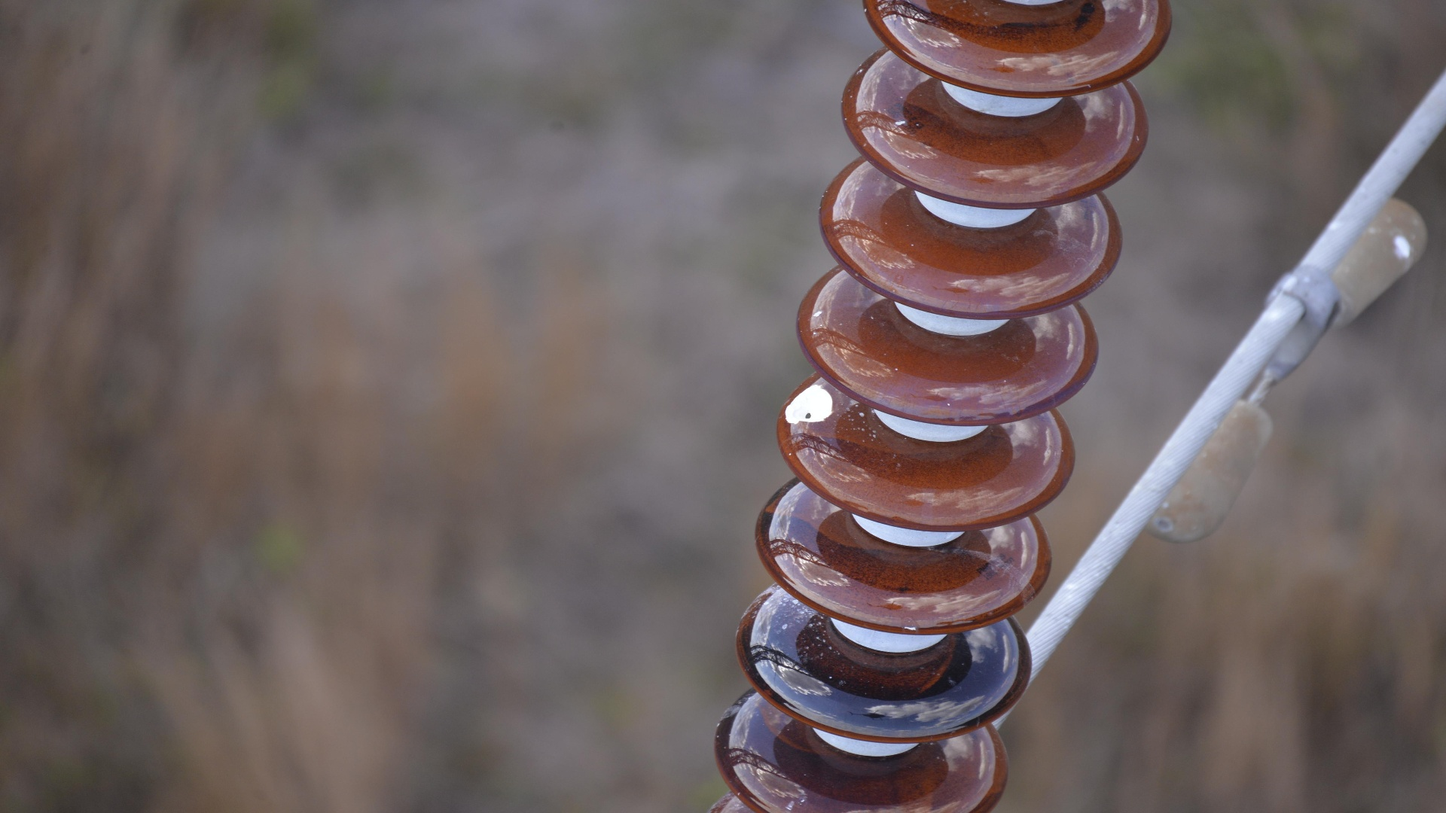insulator: (705, 1, 1179, 813)
